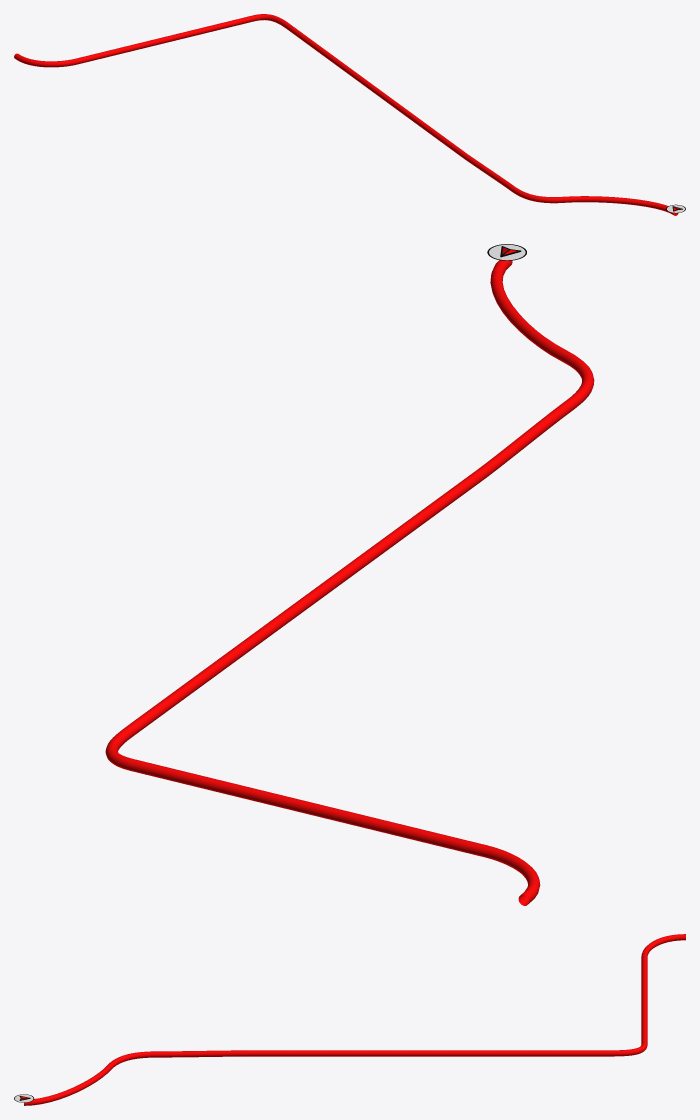
The model's file is route_817d6b15-4134-4a0b-be96-28548a51335f_de_single.glb.
3 renders of one model, top to bottom at view 1: azimuth 30°, elevation 25°; view 2: azimuth 150°, elevation 25°; view 3: azimuth 270°, elevation 25°, orthographic. The views are drawn at different scales.
Parts seen in each view (by area): view 1: A7, Abteil 3; view 2: A7, Abteil 3; view 3: A7, Abteil 3.
Part boxes in pixels (bbox=[...]): A7, Abteil 3: bbox=[14, 14, 678, 215]; A7, Abteil 3: bbox=[105, 260, 594, 905]; A7, Abteil 3: bbox=[24, 934, 685, 1105].
Size of the model in its own units: 5.19 by 0.1062 by 8.61.
